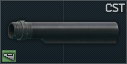Colt buffer tube: (0, 0, 127, 64)
